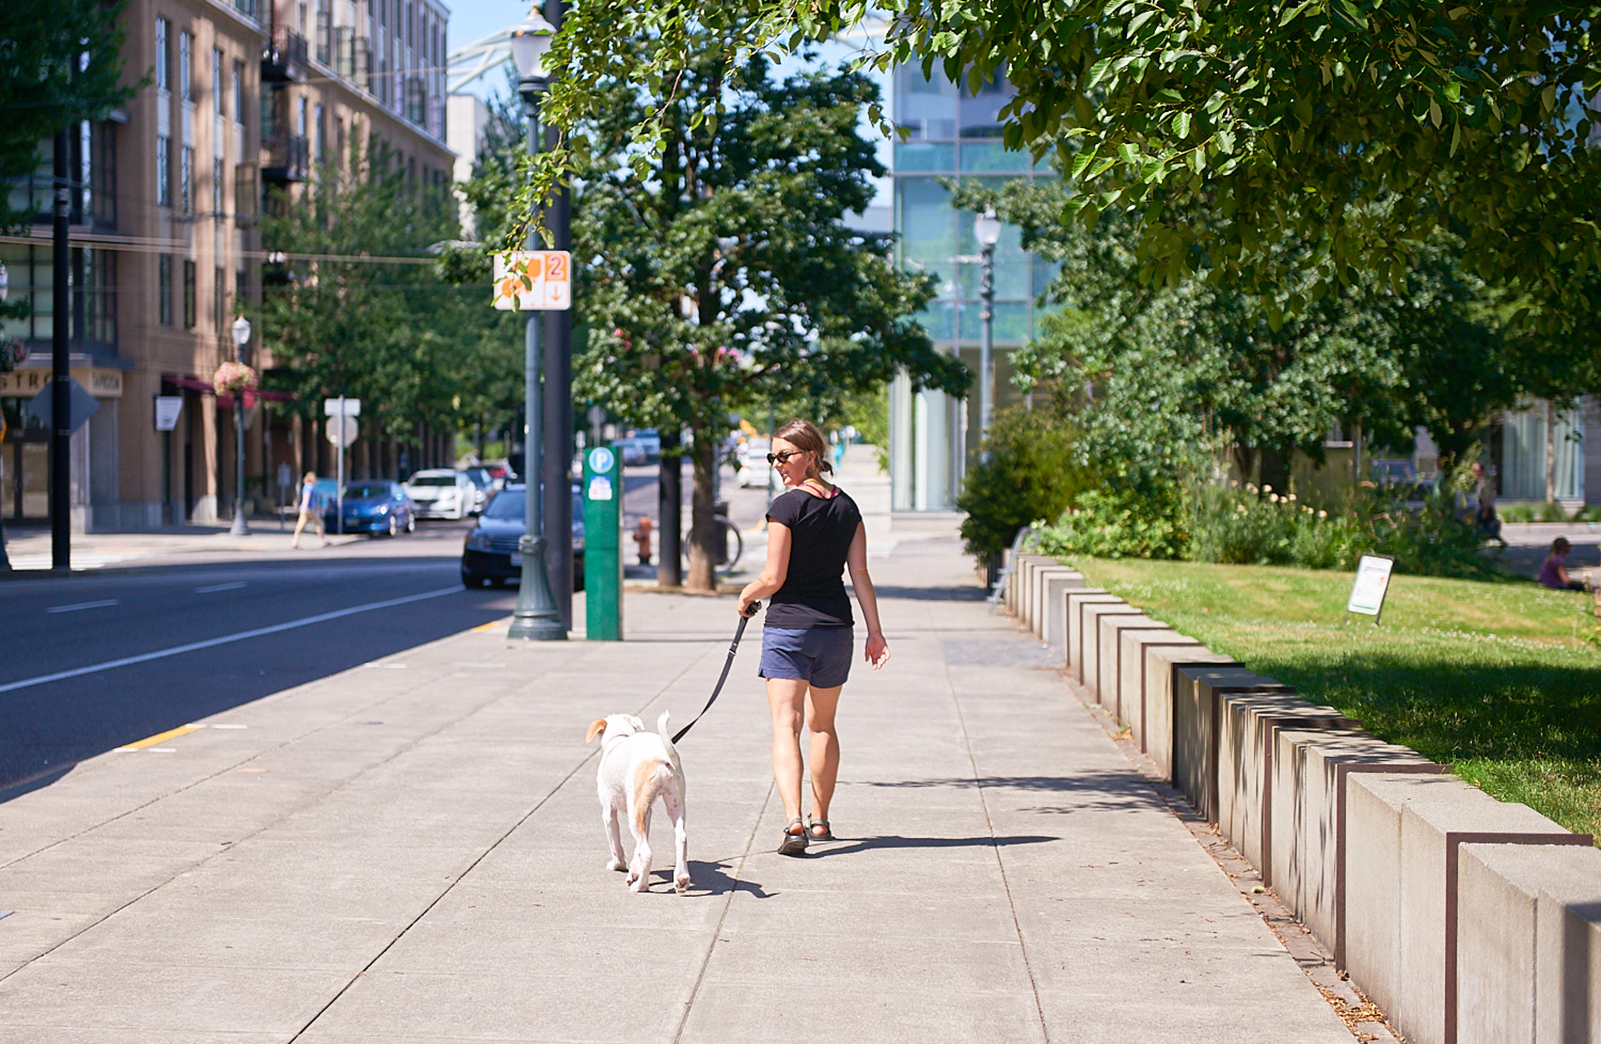car: (455, 475, 605, 594), (318, 474, 417, 544)
dog: (570, 694, 710, 898)
person: (722, 398, 902, 867)
